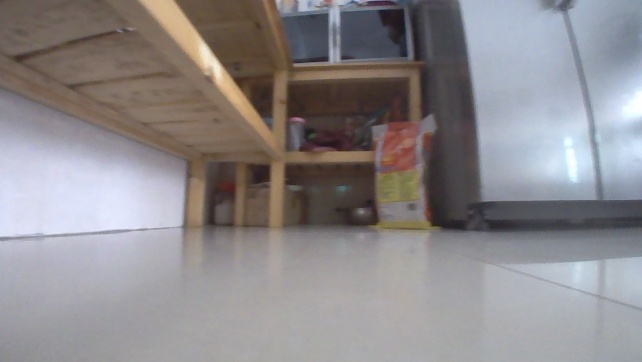refrigerator1: (410, 0, 641, 233)
